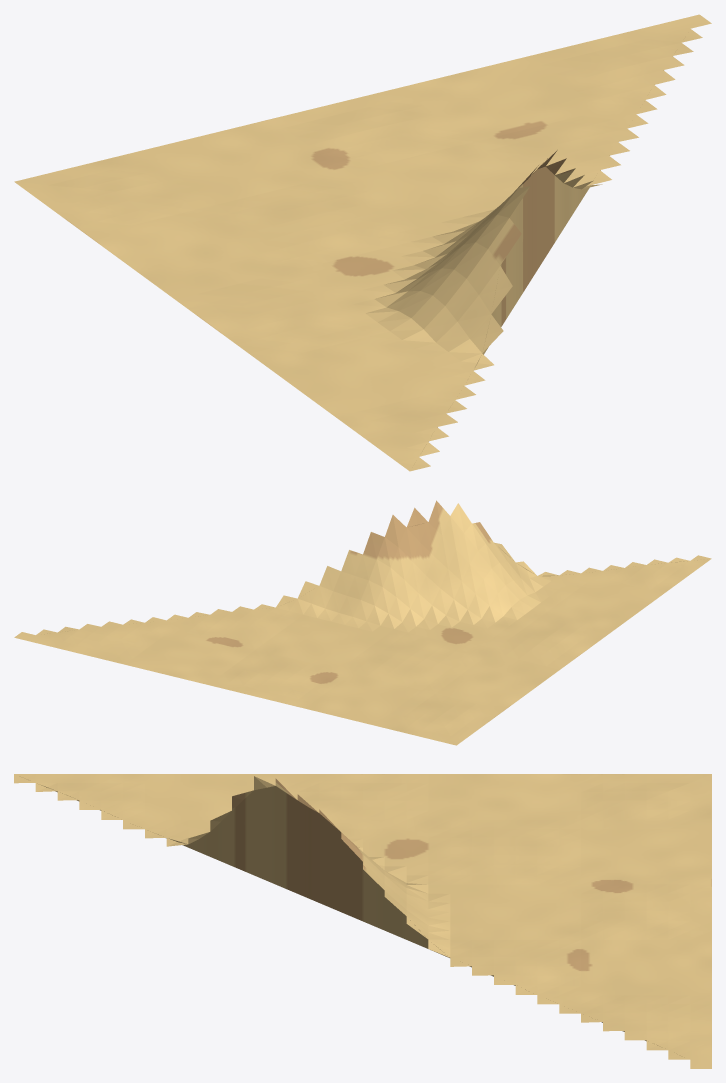
The model's file is Desert_Mountains_10_SW.obj.
3 views of the same model, one above another, from view 1: azimuth 30°, elevation 25°; view 2: azimuth 150°, elevation 25°; view 3: azimuth 270°, elevation 25° (orthographic). The views are drawn at different scales.
Bounding box in the file's own units: 10 × 1.83 × 10.
Materials: 1 (1 with a texture image).
